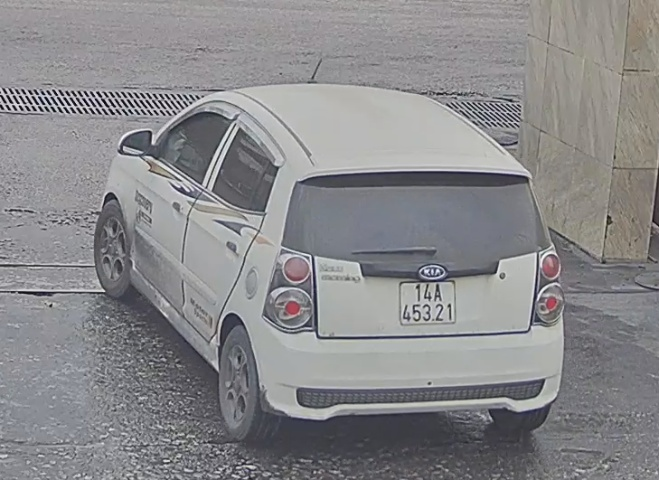vehicle plate: (396, 277, 456, 327)
